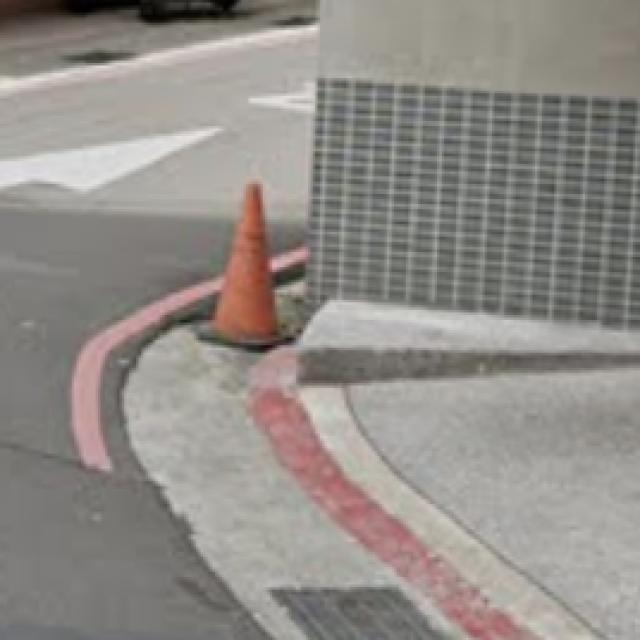cone: (205, 162, 289, 352)
